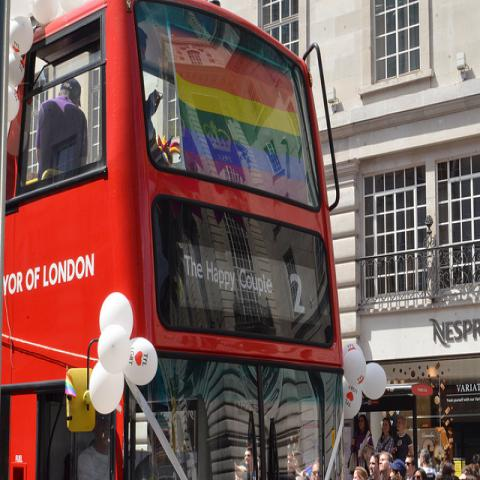bus: (2, 7, 345, 474)
